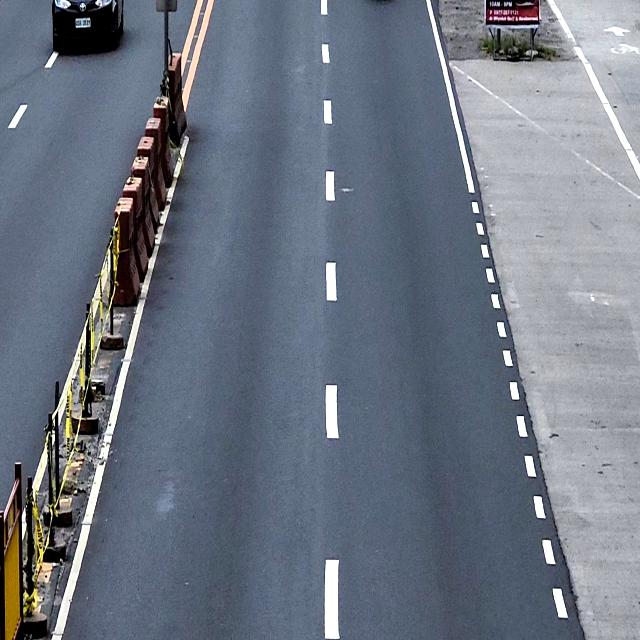Car: (51, 0, 124, 52)
License-Plate: (75, 16, 92, 30)
